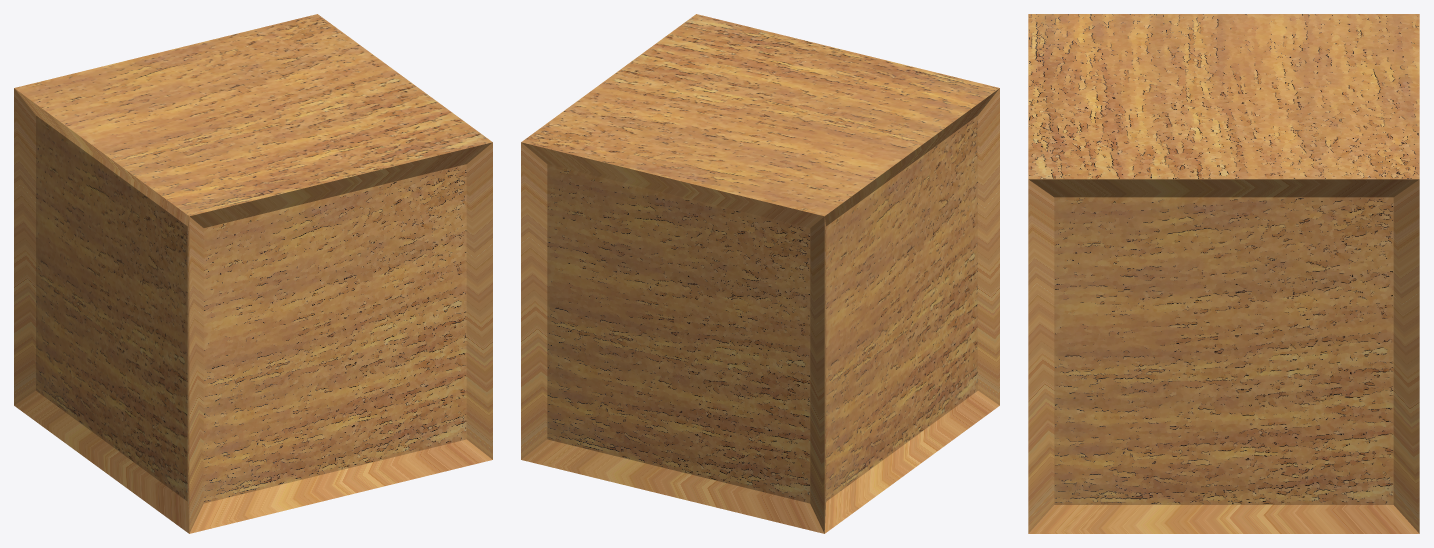
The model's file is Crate.fbx.
3 renders of one model, left to right at view 1: azimuth 30°, elevation 25°; view 2: azimuth 150°, elevation 25°; view 3: azimuth 270°, elevation 25°, orthographic. The views are drawn at different scales.
Visible parts, largest first — view 1: Box001; view 2: Box001; view 3: Box001.
Boxes of the visible parts, <box> form: Box001: <box>14,14,492,533</box>; Box001: <box>521,14,999,533</box>; Box001: <box>1028,14,1419,533</box>.
Size of the model in its own units: 1.5 by 1.5 by 1.5.
